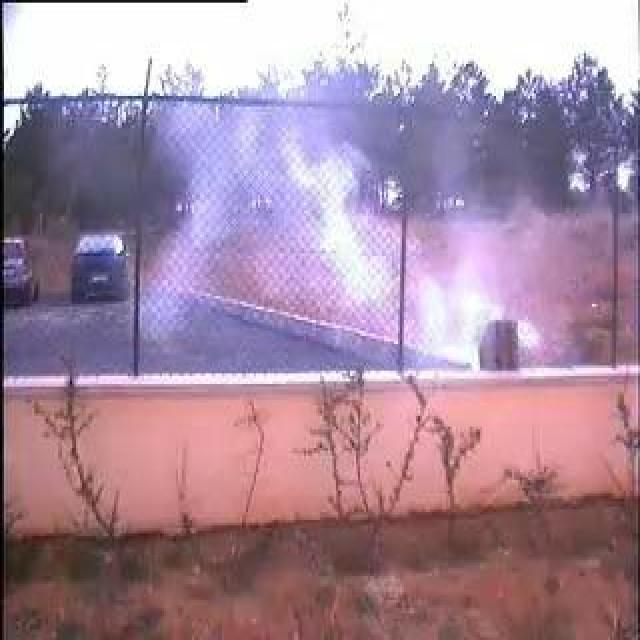Smoke: (212, 123, 490, 368)
